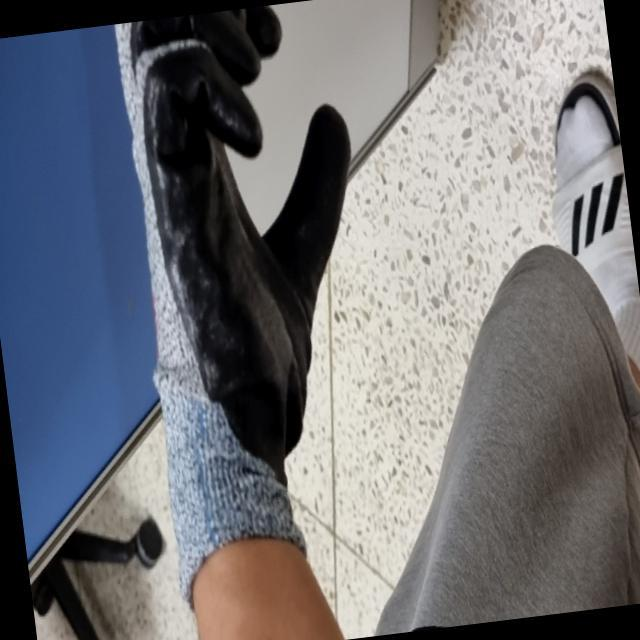Gloves: (119, 0, 351, 541)
